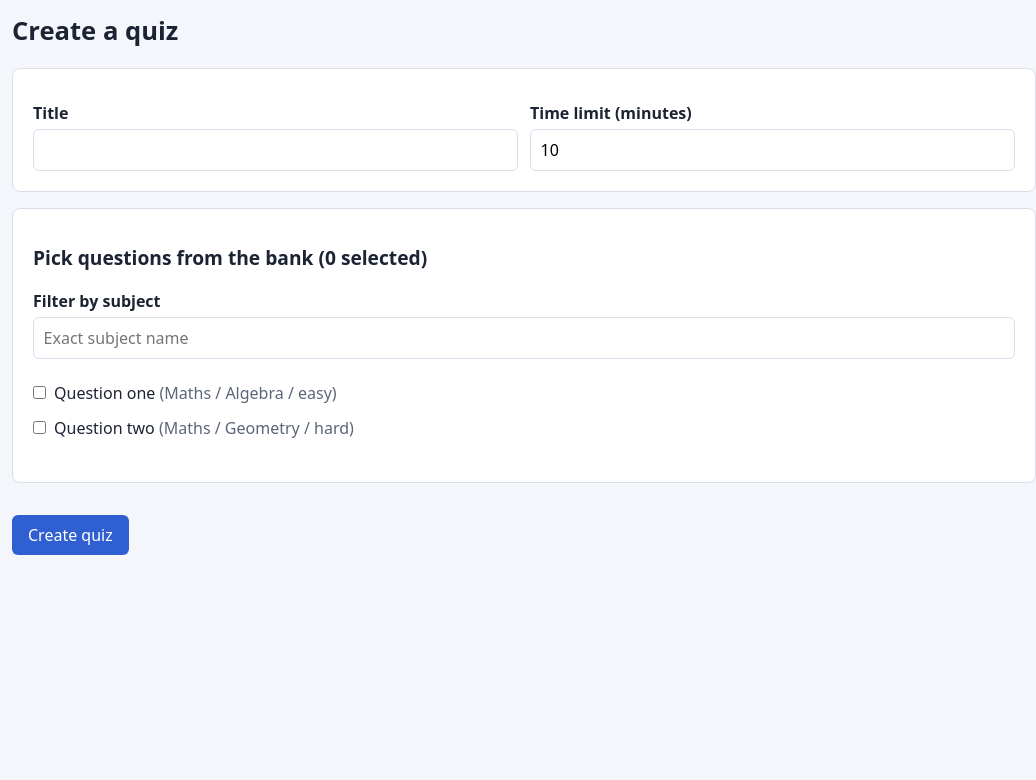
Test: TC-Quiz-01 create a quiz from the bank (CSMQP-F-030/031) › time limit 0 is rejected client-side
Check: the text "Question one" is shown, box [54,382,155,404]
In the field labelled "Title": (276, 150) [33,128,518,170], type "T"
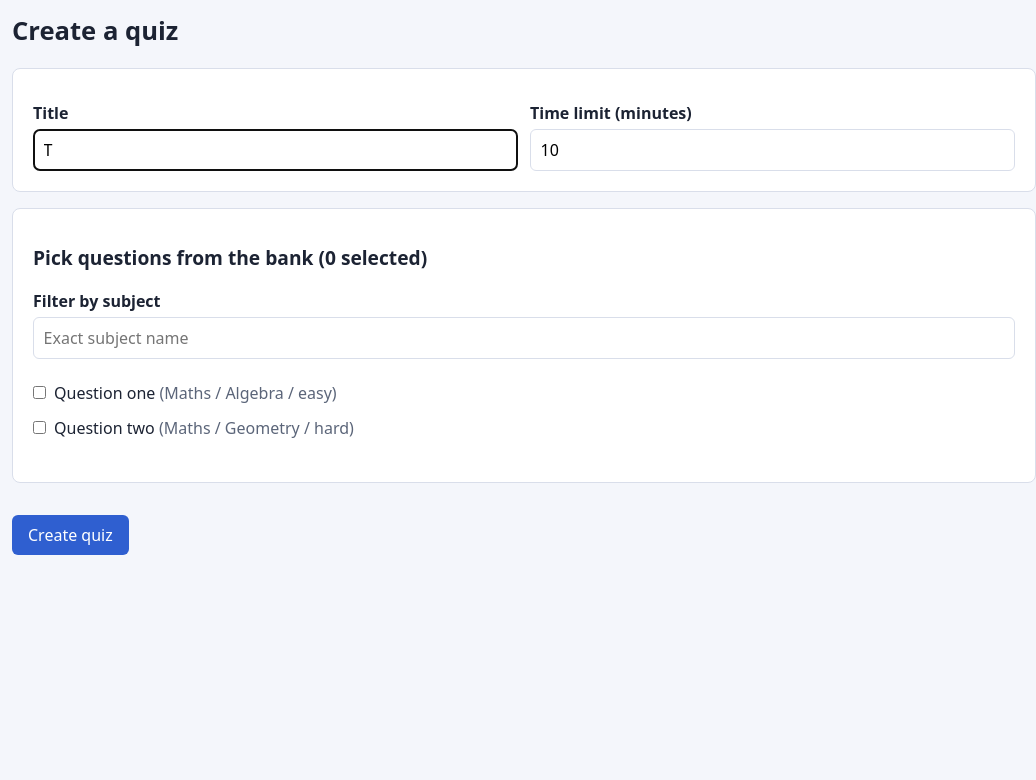
Replace the text in the number field labelled "Time limit (minutes)" with "0": (772, 150) [530,128,1015,170]
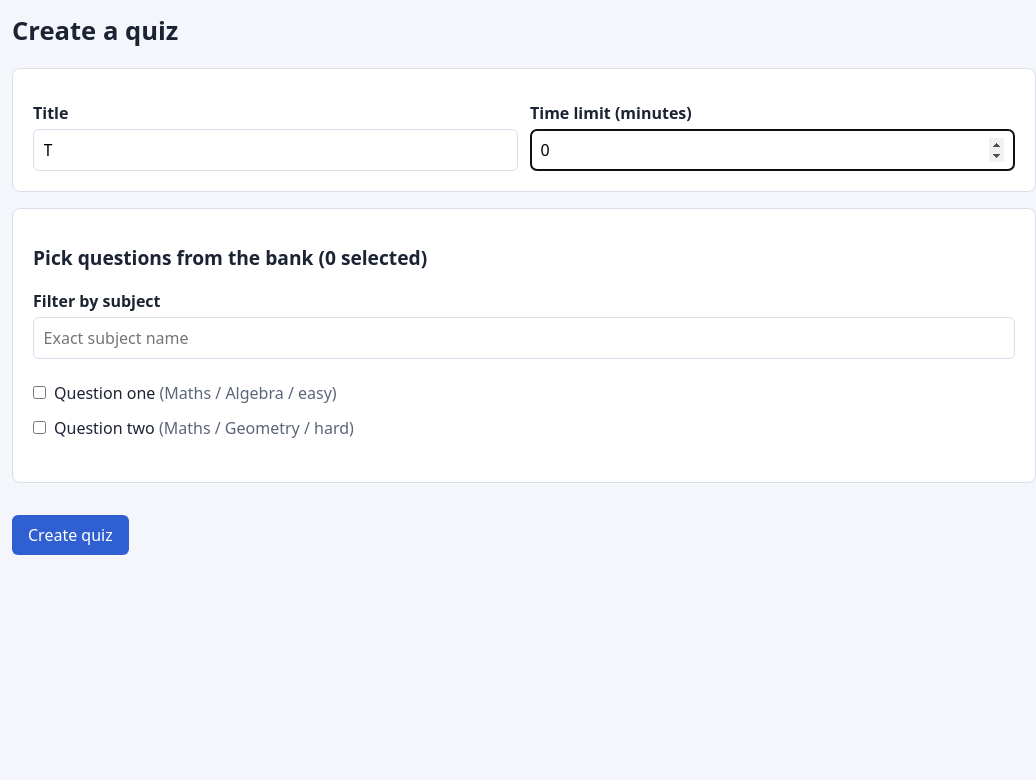
Click the checkbox labelled "Question one (Maths / Algebra / easy)": (40, 393) [33,386,46,399]
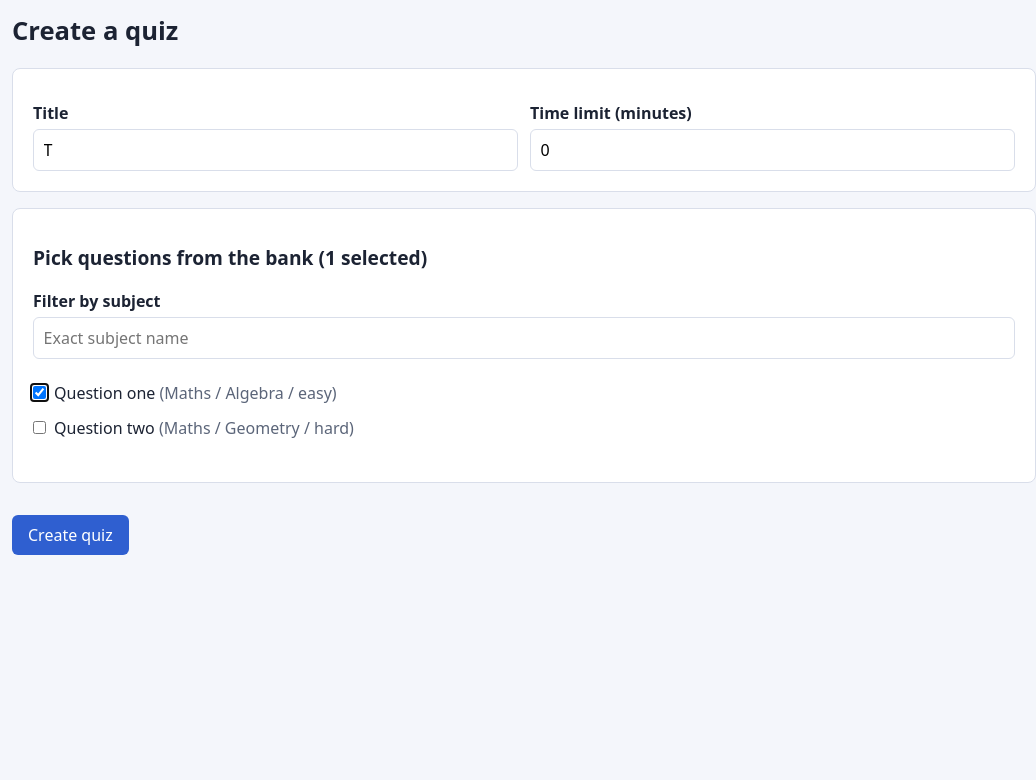
Click the button "Create quiz": (70, 534) [12,514,129,554]
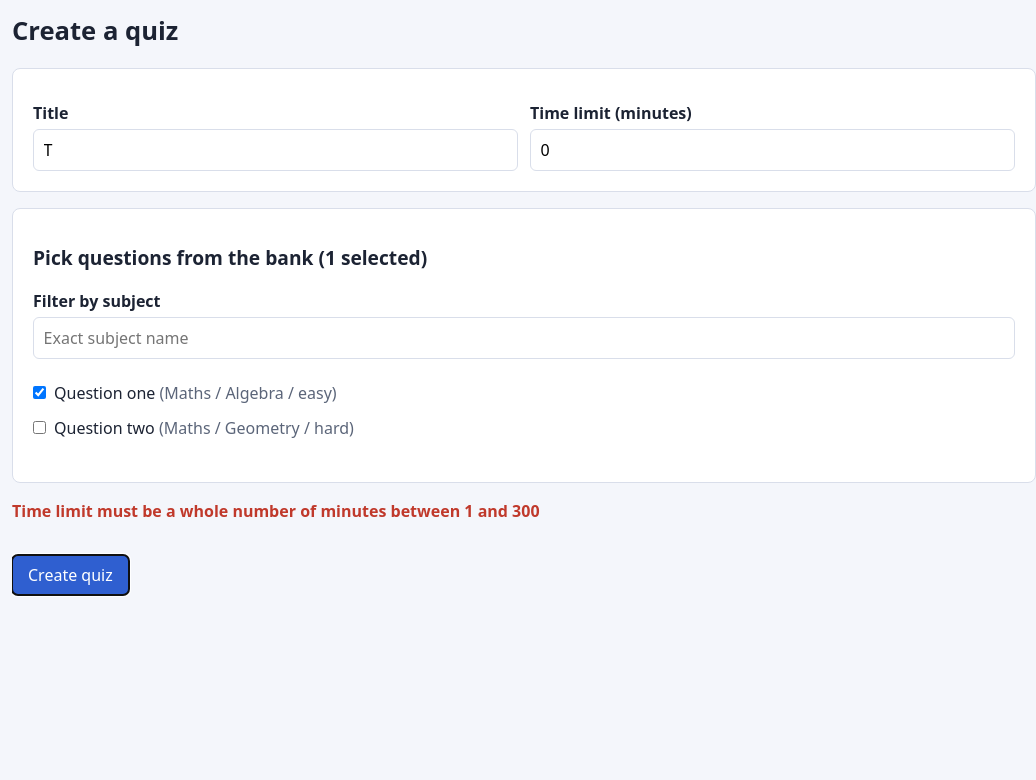
Check: the message shows "between 1 and 300", box [12,500,540,522]
